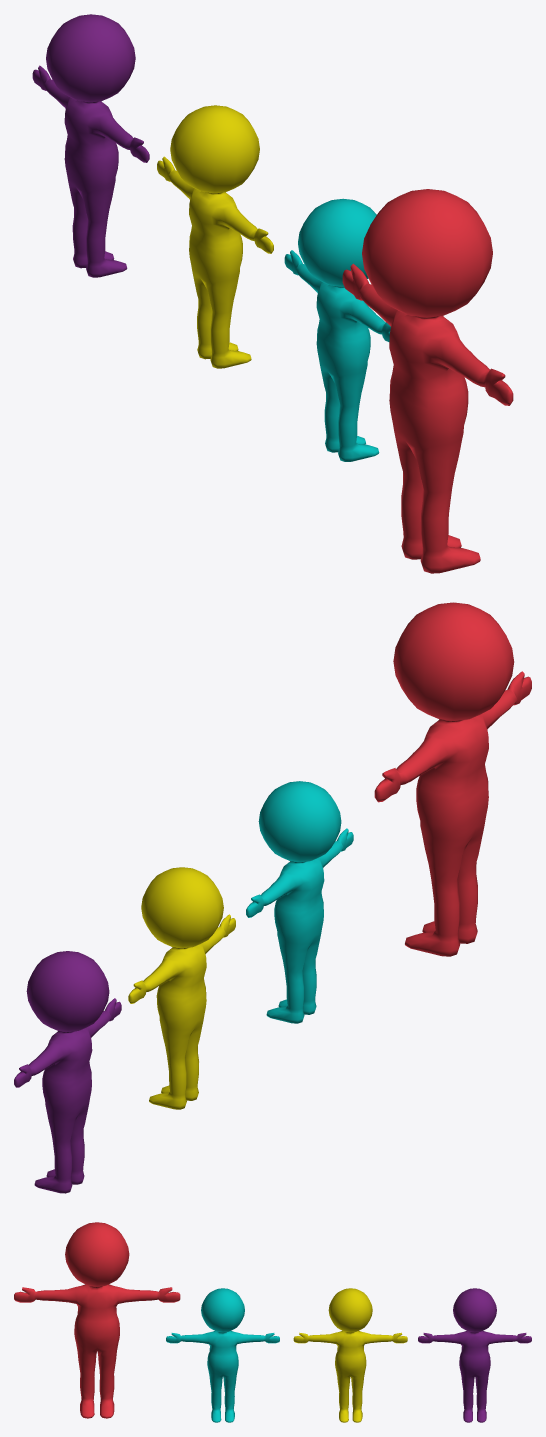
The model's file is heroes.fbx.
3 renders of one model, top to bottom at view 1: azimuth 30°, elevation 25°; view 2: azimuth 150°, elevation 25°; view 3: azimuth 270°, elevation 25°, orthographic. The views are drawn at different scales.
Parts seen in each view (by area): view 1: human_1, human_4, human_3, human_2; view 2: human_1, human_4, human_3, human_2; view 3: human_1, human_3, human_2, human_4.
Boxes of the visible parts, x1,y1,x2,y2 form: human_1: (342, 189, 513, 573); human_4: (32, 14, 149, 277); human_3: (157, 105, 273, 368); human_2: (284, 198, 390, 461); human_1: (374, 602, 531, 956); human_4: (14, 951, 121, 1193); human_3: (128, 867, 235, 1109); human_2: (246, 781, 353, 1023); human_1: (14, 1222, 180, 1418); human_3: (293, 1288, 407, 1422); human_2: (166, 1288, 279, 1422); human_4: (418, 1288, 531, 1422).
Bounding box in the file's own units: 7.13 × 18.17 × 46.57.
